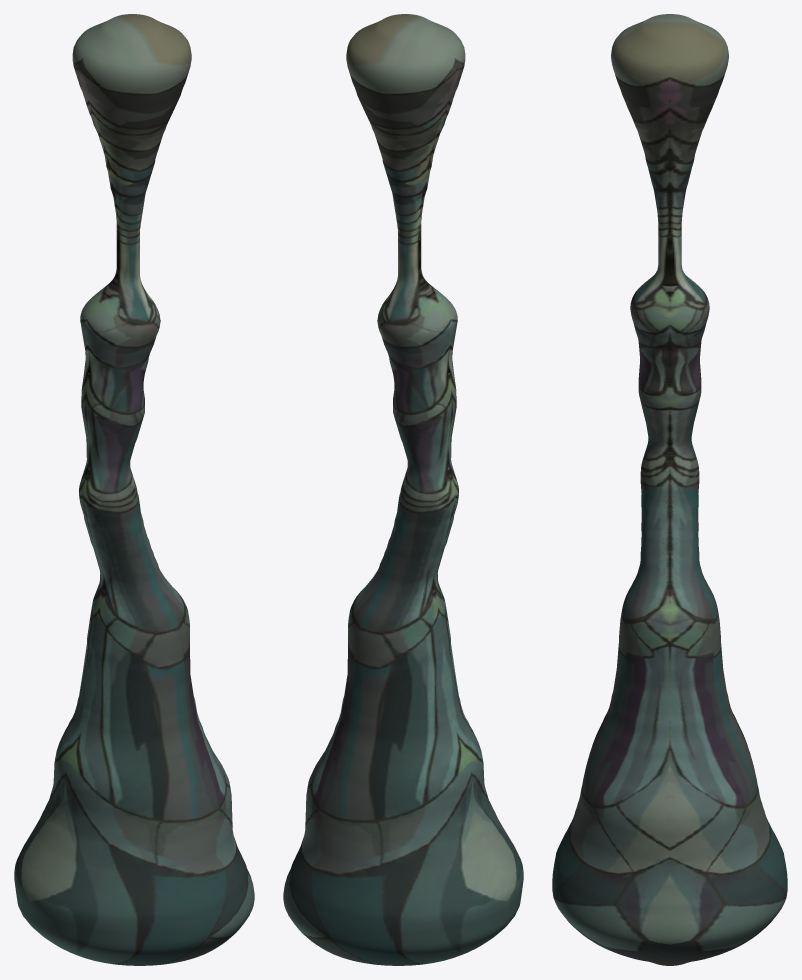
File: banded_pillar.glb
The picture shows the model from 3 angles, left to right: view 1: azimuth 30°, elevation 25°; view 2: azimuth 150°, elevation 25°; view 3: azimuth 270°, elevation 25°; orthographic projection.
Visible parts, largest first — view 1: banded_pillar; view 2: banded_pillar; view 3: banded_pillar.
Boxes of the visible parts, bbox=[...] form: banded_pillar: bbox=[14, 14, 254, 965]; banded_pillar: bbox=[283, 14, 523, 965]; banded_pillar: bbox=[552, 14, 787, 965].
Size of the model in its own units: 0.989 by 4.22 by 0.978.
1 material, 1 textured.
